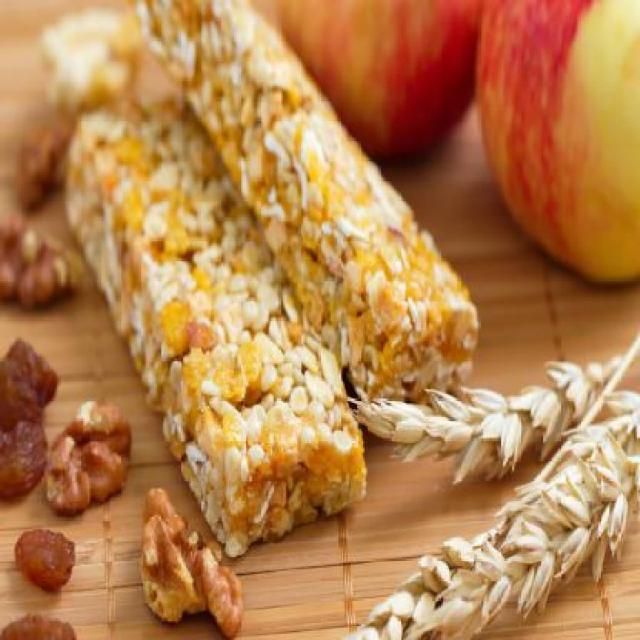Cereal bar packaged: (69, 103, 368, 600), (140, 1, 483, 404)
